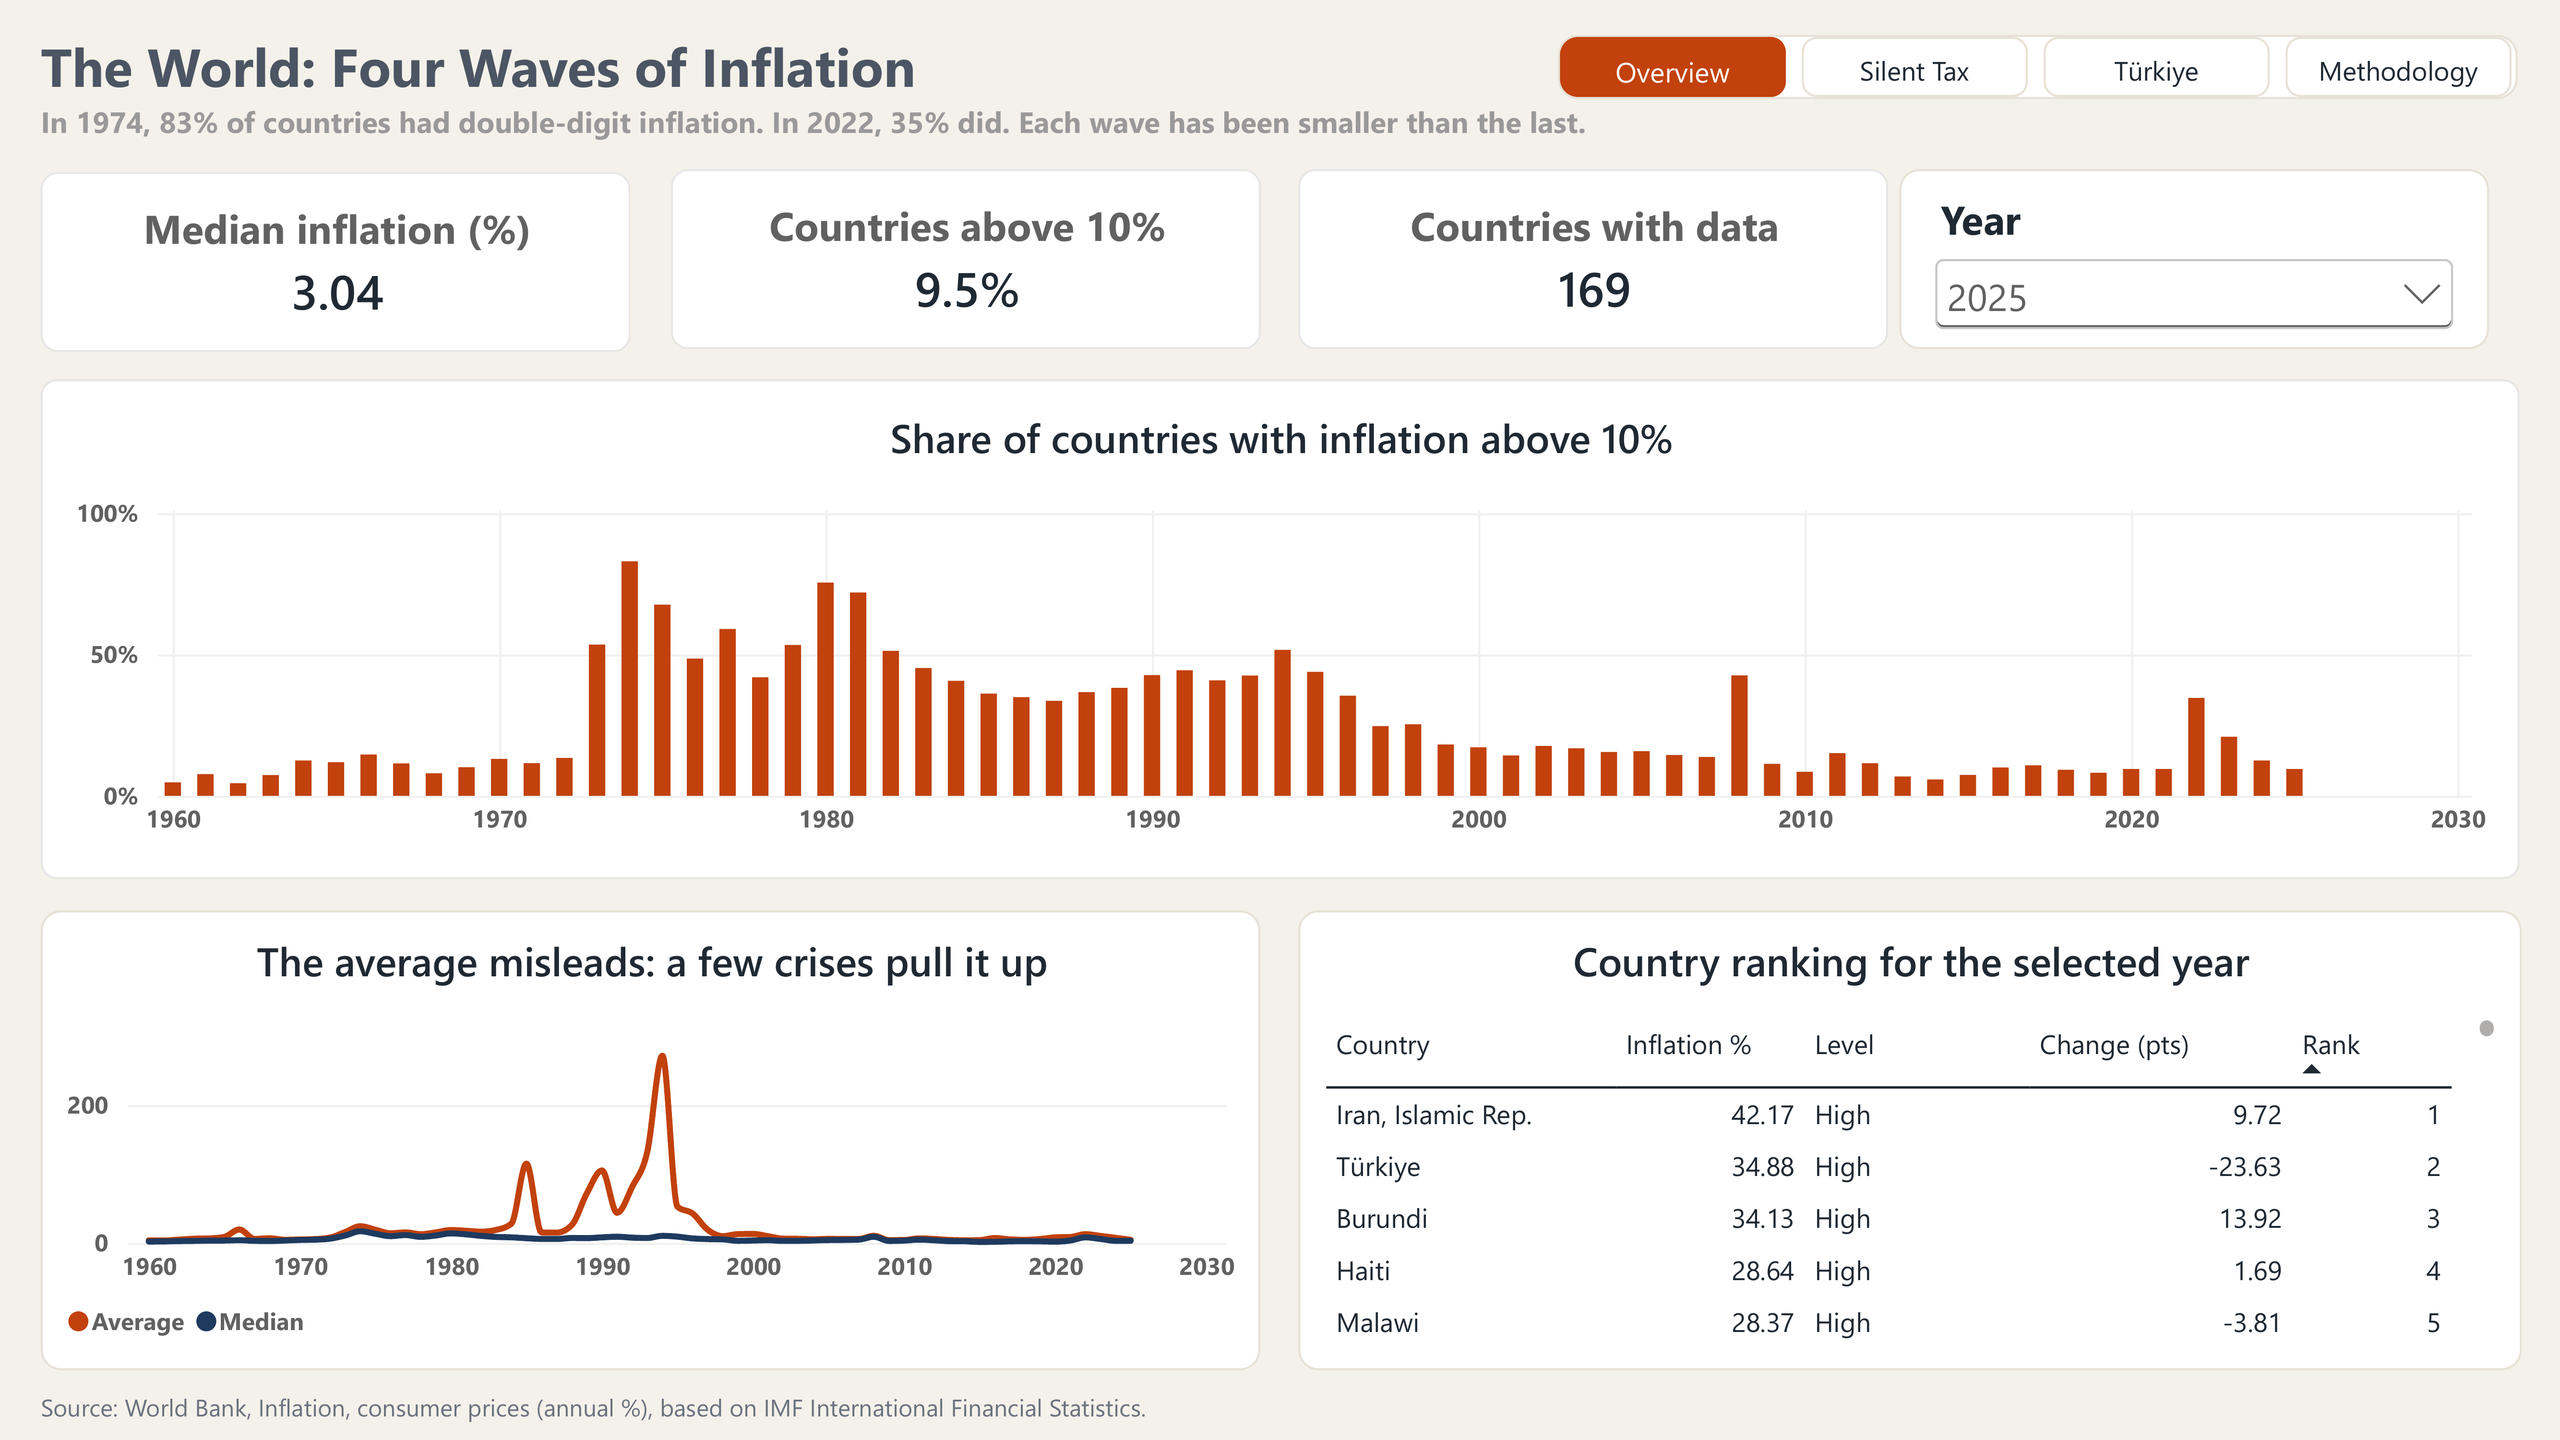

The page's visual inventory and layout, read from the dashboard file:
{"tool":"powerbi","page":{"name":"Overview","canvas":[1280,720],"ordinal":0},"visuals":[{"type":"cardVisual","fields":{"Data":["Inflation.% Countries Above 10%"]},"box":[335,85,295,90],"z":0},{"type":"cardVisual","fields":{"Data":["Inflation.Medina Inflation"]},"box":[20,86,295,90],"z":1000},{"type":"lineChart","title":"The average misleads: a few crises pull it up","fields":{"Category":["Calendar.Year"],"Y":["Inflation.AVG Inflation","Inflation.Medina Inflation"]},"box":[20,455,610,230],"z":2000},{"type":"clusteredColumnChart","title":"Share of countries with inflation above 10%","fields":{"Category":["Calendar.Year"],"Y":["Inflation.% Countries Above 10%"]},"box":[20,190,1240,250],"z":3000},{"type":"slicer","fields":{"Values":["Calendar.Year"]},"box":[950,85,295,90],"z":4000},{"type":"tableEx","title":"Country ranking for the selected year","fields":{"Values":["Countries.Country Name","Inflation.Median Inflation","Inflation.Inflation Level","Inflation.Change vs LY","Inflation.Rank"]},"box":[649.5,455.4,611.5,230],"z":5000},{"type":"cardVisual","fields":{"Data":["Inflation.Countries Reporting"]},"box":[650,85,295,90],"z":6000},{"type":"textbox","box":[20,15,1240,60],"z":7000},{"type":"textbox","box":[20,695,1240.6,22],"z":8000},{"type":"pageNavigator","box":[780,18,480,32],"z":9000}]}

Visuals, with their boxes in screenshot pixels (x1, y1, x2, y2), scaled from the page's 1280x720 canvas onto the 2560x1440 screenshot:
cardVisual - Inflation.% Countries Above 10%: locate(670, 170, 1260, 350)
cardVisual - Inflation.Medina Inflation: locate(40, 172, 630, 352)
"The average misleads: a few crises pull it up" lineChart: locate(40, 910, 1260, 1370)
"Share of countries with inflation above 10%" clusteredColumnChart: locate(40, 380, 2520, 880)
slicer - Calendar.Year: locate(1900, 170, 2490, 350)
"Country ranking for the selected year" tableEx: locate(1299, 911, 2522, 1371)
cardVisual - Inflation.Countries Reporting: locate(1300, 170, 1890, 350)
textbox: locate(40, 30, 2520, 150)
textbox: locate(40, 1390, 2521, 1434)
pageNavigator: locate(1560, 36, 2520, 100)
